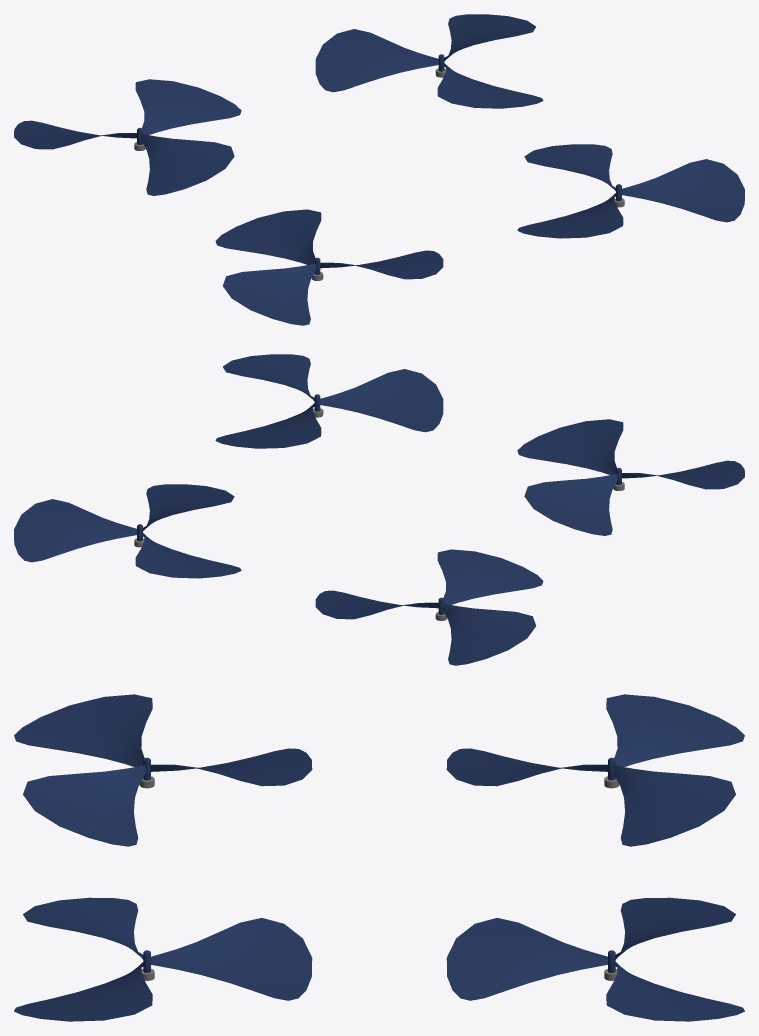
Rendered from propeller.glb.
3 views of the same model, one above another, from view 1: azimuth 30°, elevation 25°; view 2: azimuth 150°, elevation 25°; view 3: azimuth 270°, elevation 25° (orthographic). The views are drawn at different scales.
Parts seen in each view (by area): view 1: vint.003, vint.004, vint.001, vint.002; view 2: vint.004, vint.003, vint.002, vint.001; view 3: vint.003, vint.004, vint.001, vint.002.
Part boxes in pixels (x1,y1,x2,y2): vint.003: (215, 209, 443, 325); vint.004: (14, 79, 241, 195); vint.001: (315, 14, 543, 108); vint.002: (517, 144, 744, 238); vint.004: (315, 549, 543, 665); vint.003: (517, 419, 744, 535); vint.002: (215, 354, 443, 448); vint.001: (14, 484, 241, 578); vint.003: (14, 694, 312, 846); vint.004: (446, 694, 744, 846); vint.001: (446, 897, 744, 1021); vint.002: (14, 897, 312, 1021).
Size of the model in its own units: 1.56 by 0.0685 by 1.49.
1 material, 1 textured.
